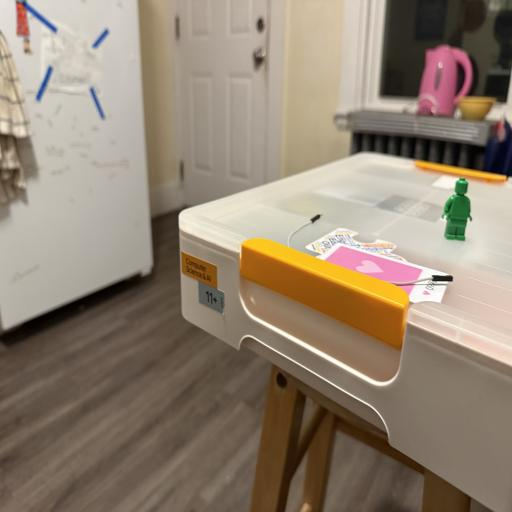Minifig: (442, 178, 472, 240)
